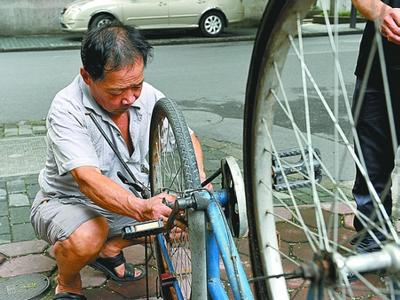person: (31, 23, 211, 300)
